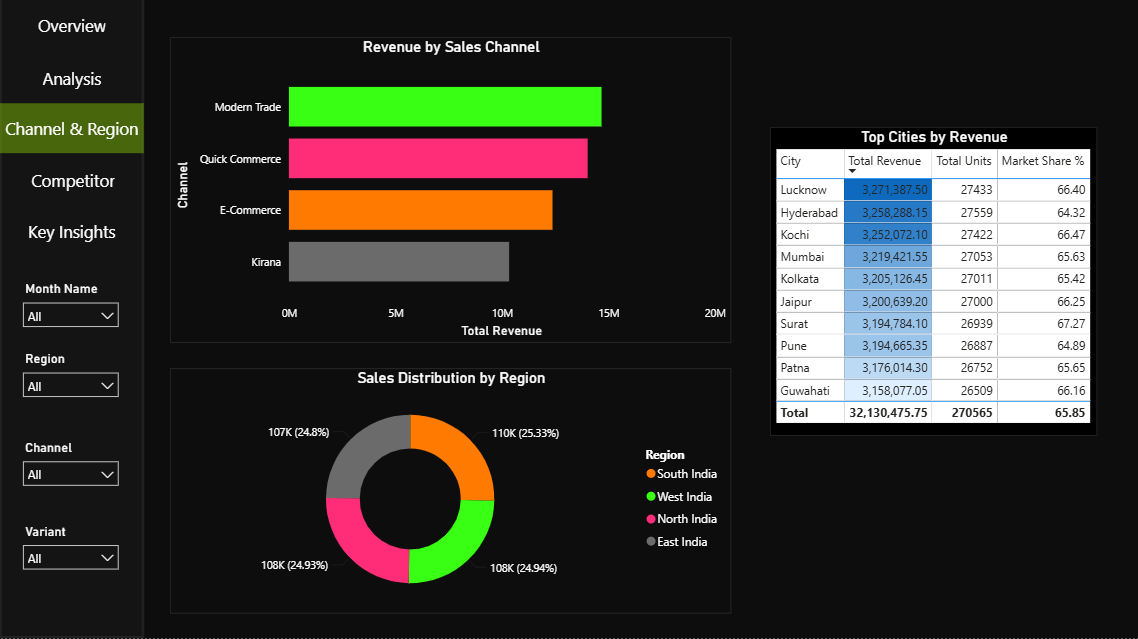

The dashboard page shown, as its layout file describes it:
{"tool":"powerbi","page":{"name":"Channel & Region","canvas":[1280,720],"ordinal":2},"visuals":[{"type":"clusteredBarChart","title":"Revenue by Sales Channel","fields":{"Category":["Monster_Energy_Sales_Data.Channel"],"Y":["DateTable.Total Revenue"]},"box":[190.7,44.9,629.6,343.6],"z":0},{"type":"donutChart","title":"Sales Distribution by Region","fields":{"Y":["DateTable.Total Units"],"Category":["Monster_Energy_Sales_Data.Region"]},"box":[190.7,416.5,629.6,274.8],"z":1000},{"type":"tableEx","title":"Top Cities by Revenue","fields":{"Values":["Monster_Energy_Sales_Data.City","DateTable.Total Revenue","DateTable.Total Units","DateTable.Market Share %"]},"box":[863.8,145.8,367.4,346.4],"z":2000},{"type":"shape","box":[0,0,161.3,719.4],"z":3000},{"type":"actionButton","title":"Overview","box":[0,0,161.3,63.1],"z":4000},{"type":"actionButton","box":[0,63.1,161.3,56.1],"z":5000},{"type":"actionButton","box":[0,119.2,161.3,56.1],"z":6000},{"type":"actionButton","box":[1.4,175.3,161.3,60.3],"z":7000},{"type":"actionButton","box":[0,235.6,161.3,53.3],"z":8000},{"type":"slicer","fields":{"Values":["DateTable.Month Name"]},"box":[15.4,314.1,127.6,74.3],"z":9000},{"type":"slicer","fields":{"Values":["Monster_Energy_Sales_Data.Region"]},"box":[15,392.5,127.5,75],"z":10000},{"type":"slicer","fields":{"Values":["Monster_Energy_Sales_Data.Channel"]},"box":[15,492.5,127.5,73.8],"z":11000},{"type":"slicer","fields":{"Values":["Monster_Energy_Sales_Data.Variant"]},"box":[15,586.2,127.5,73.8],"z":12000}]}

Visuals, with their boxes on the page's 1280x720 design canvas (x1, y1, x2, y2). These are canvas units, not pixel positions in the 1138x639 screenshot, which may show the page scaled, cropped or inside an application window:
"Revenue by Sales Channel" clusteredBarChart: box=[191, 45, 820, 388]
"Sales Distribution by Region" donutChart: box=[191, 416, 820, 691]
"Top Cities by Revenue" tableEx: box=[864, 146, 1231, 492]
shape: box=[0, 0, 161, 719]
"Overview" actionButton: box=[0, 0, 161, 63]
actionButton: box=[0, 63, 161, 119]
actionButton: box=[0, 119, 161, 175]
actionButton: box=[1, 175, 163, 236]
actionButton: box=[0, 236, 161, 289]
slicer - DateTable.Month Name: box=[15, 314, 143, 388]
slicer - Monster_Energy_Sales_Data.Region: box=[15, 392, 142, 468]
slicer - Monster_Energy_Sales_Data.Channel: box=[15, 492, 142, 566]
slicer - Monster_Energy_Sales_Data.Variant: box=[15, 586, 142, 660]
